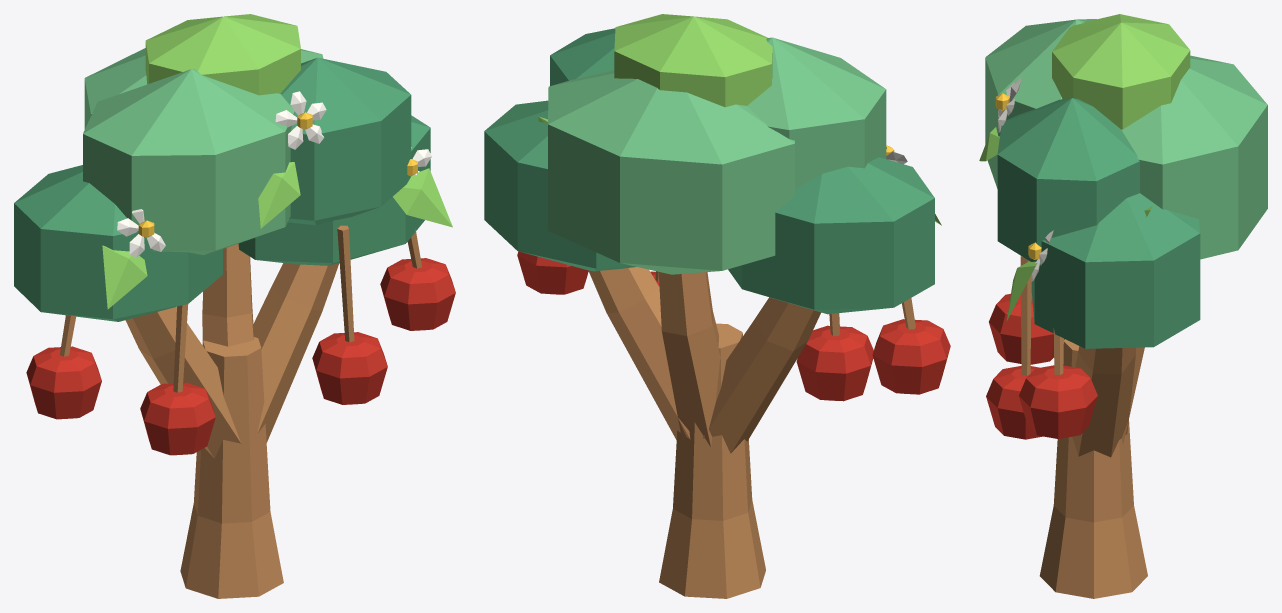
File: 12-apple-tree.glb
3 renders of one model, left to right at view 1: azimuth 30°, elevation 25°; view 2: azimuth 150°, elevation 25°; view 3: azimuth 270°, elevation 25°, orthographic. The views are drawn at different scales.
Parts seen in each view (by area): view 1: 12-apple-tree_Body; view 2: 12-apple-tree_Body; view 3: 12-apple-tree_Body.
Part boxes in pixels (box(x1,y1,x2,y2)): 12-apple-tree_Body: box(14, 14, 455, 598); 12-apple-tree_Body: box(484, 14, 950, 598); 12-apple-tree_Body: box(979, 14, 1267, 598).
Size of the model in its own units: 0.742 by 0.9358 by 0.4405.
Materials: 1 (1 with a texture image).
